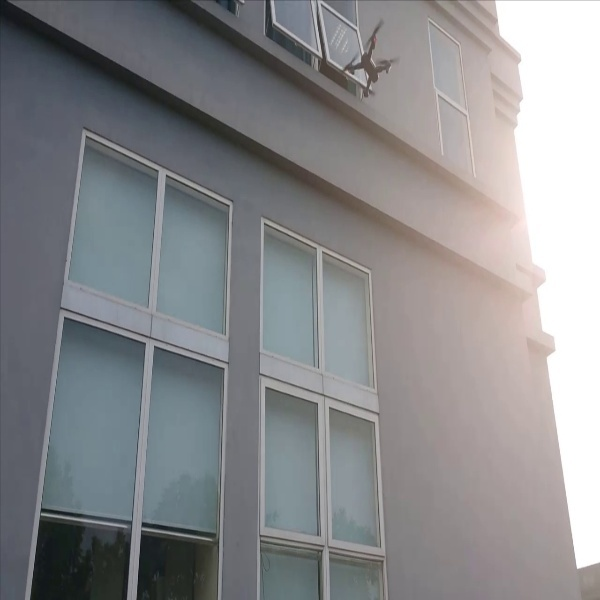drone: (337, 19, 401, 108)
